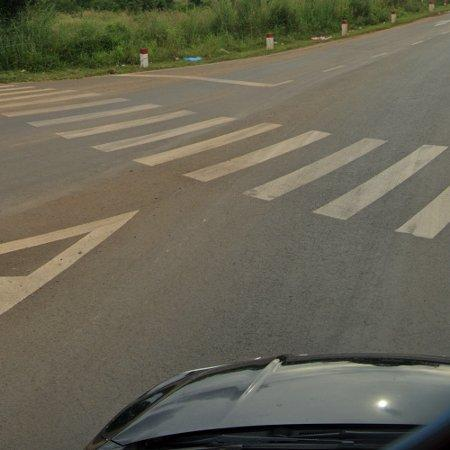crosswalks: (0, 86, 450, 238)
